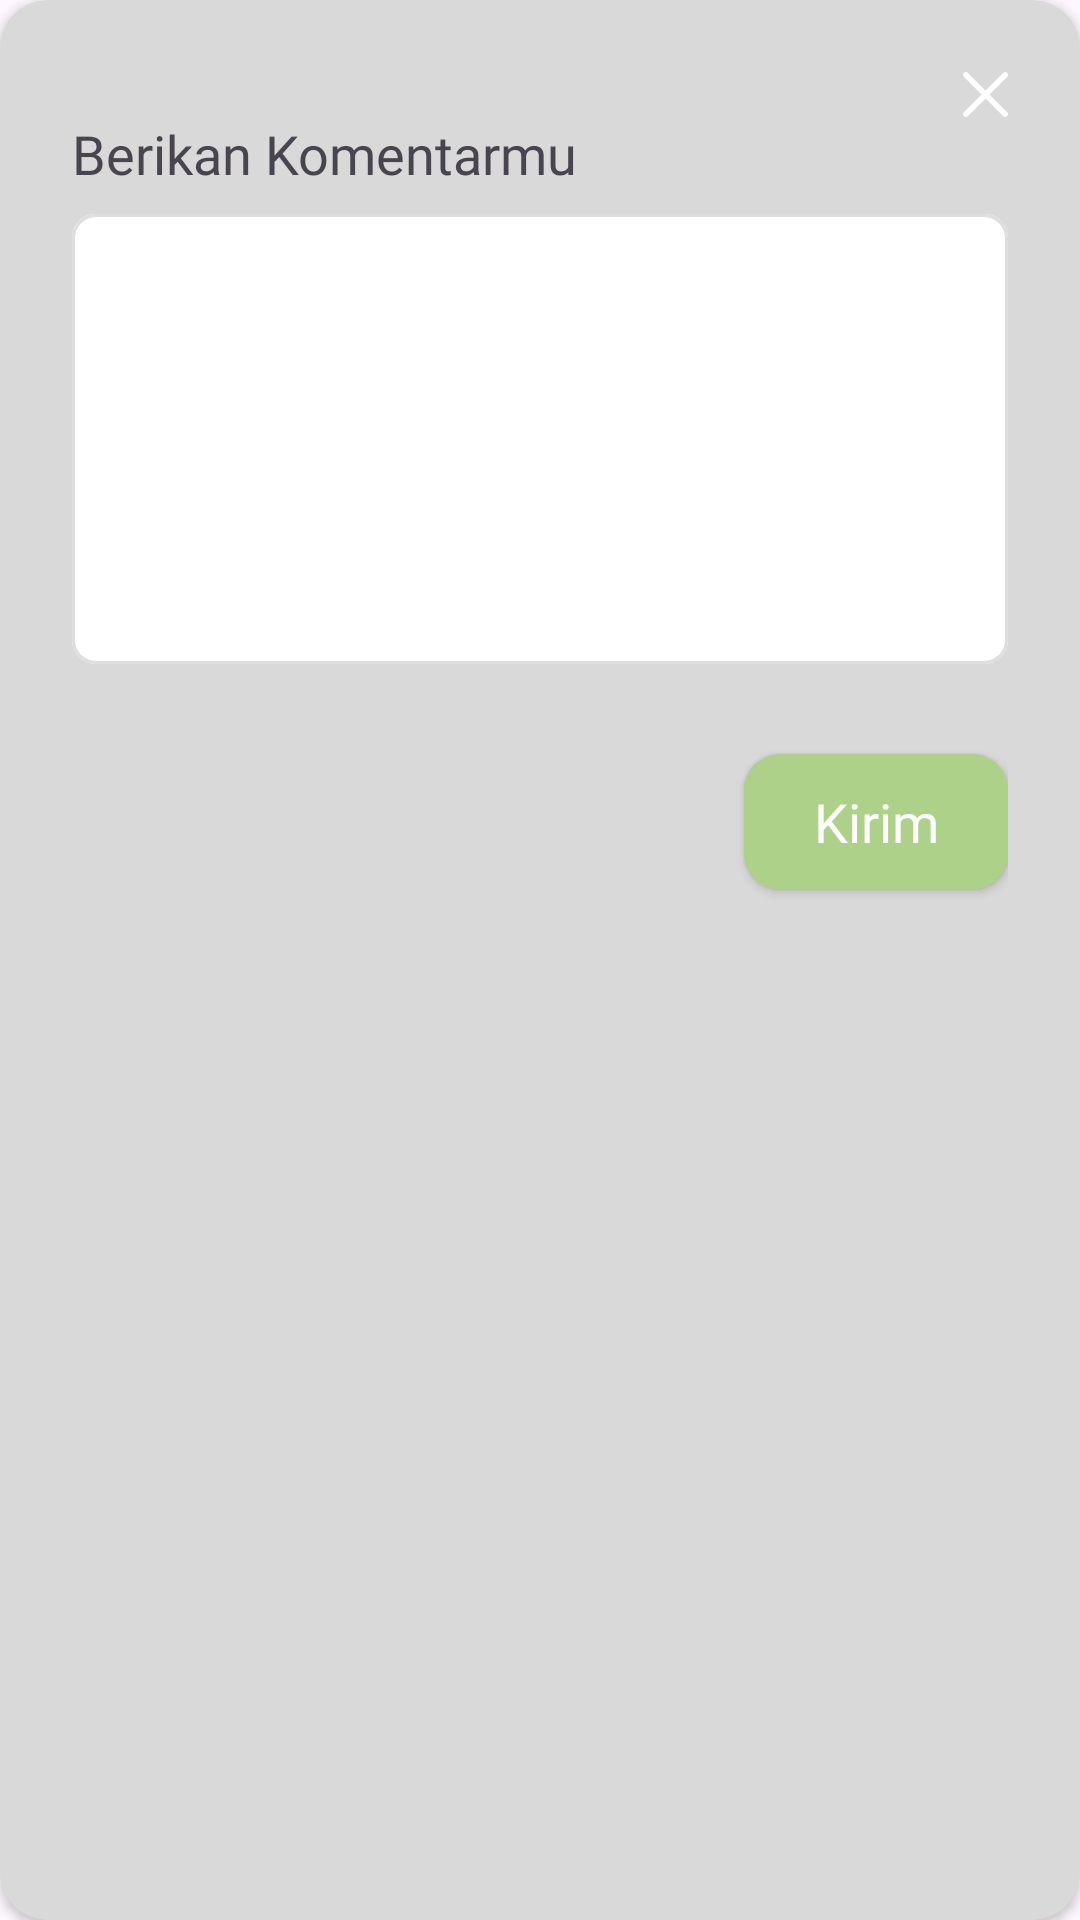

Icons on this 1080*1920 Android screen, each with the point to tap as (x=x, y=y):
Icon popup close: (x=985, y=94)
